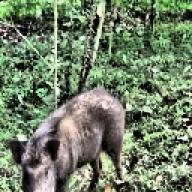boar: (6, 85, 126, 192)
